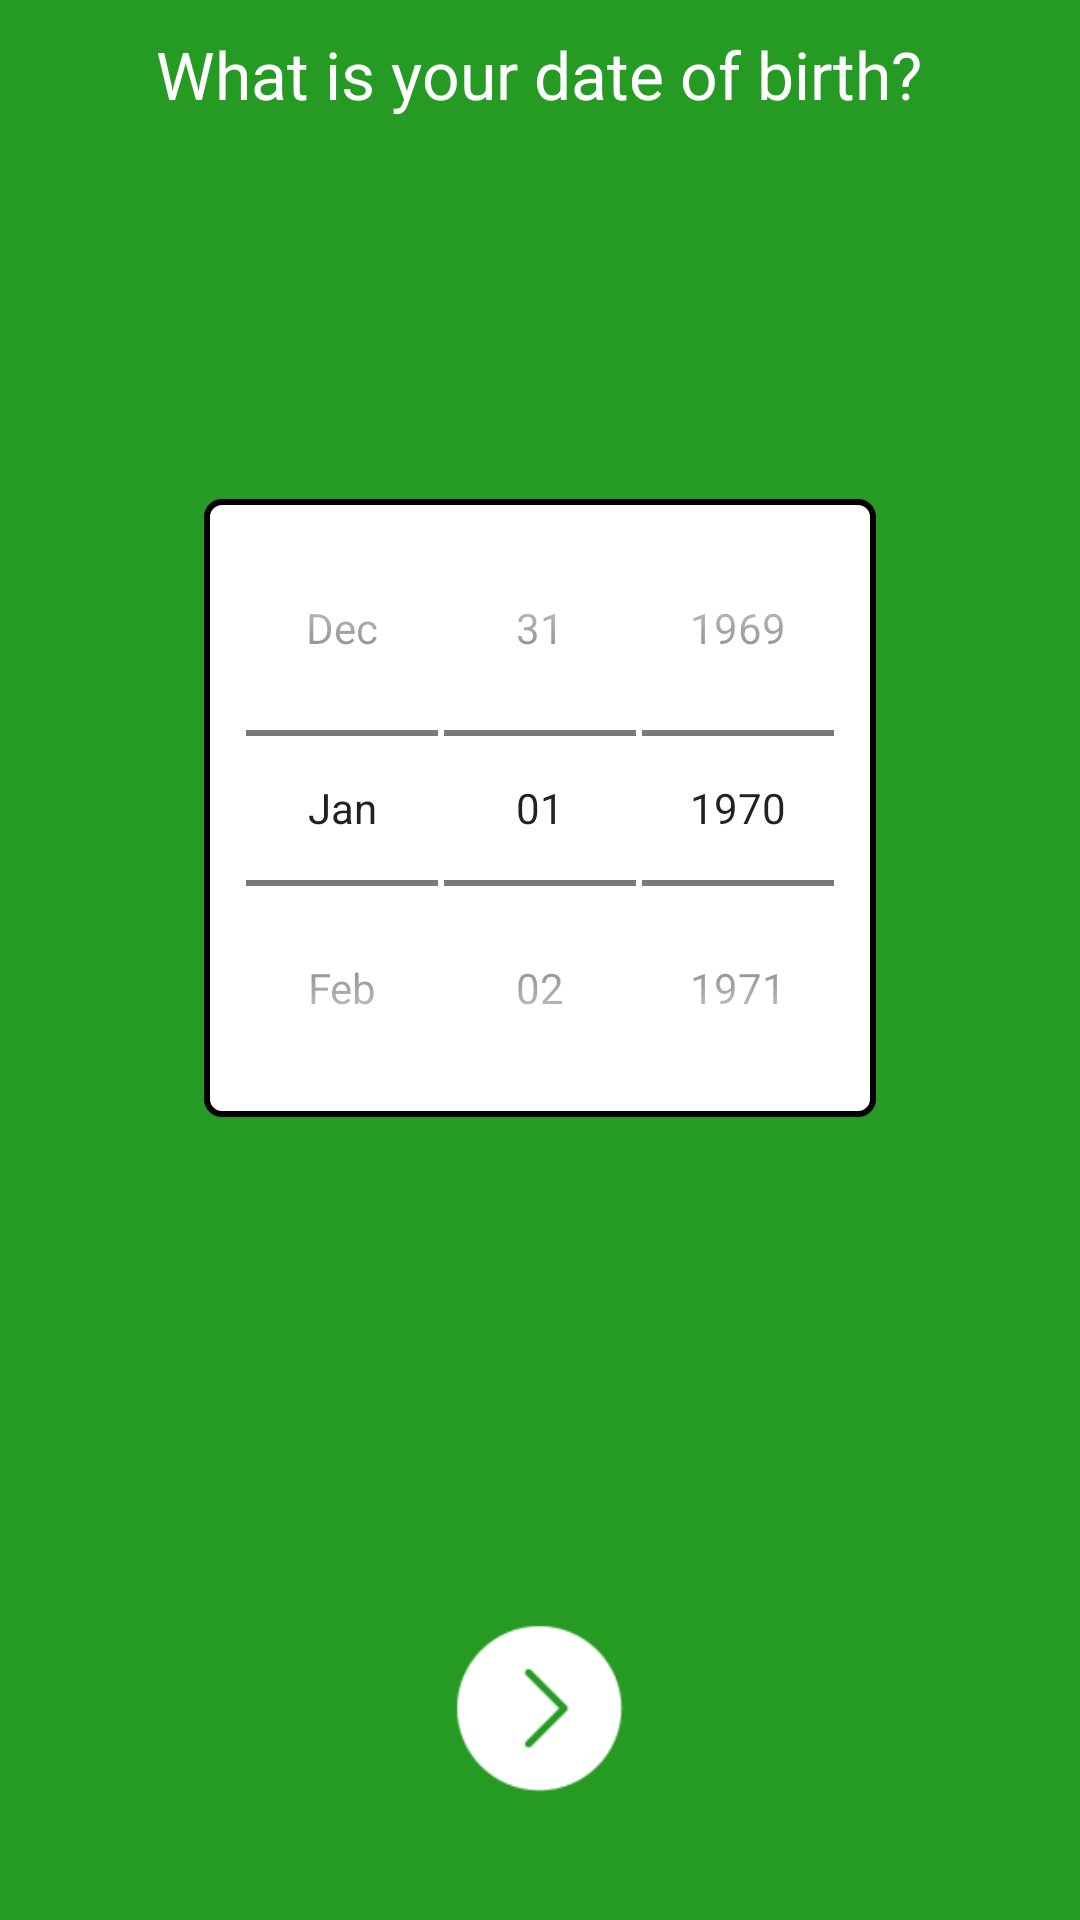

Screen size 1080*1920. Icon name, then its center in pixels as (x=x, y=y):
next page: (x=539, y=1709)
